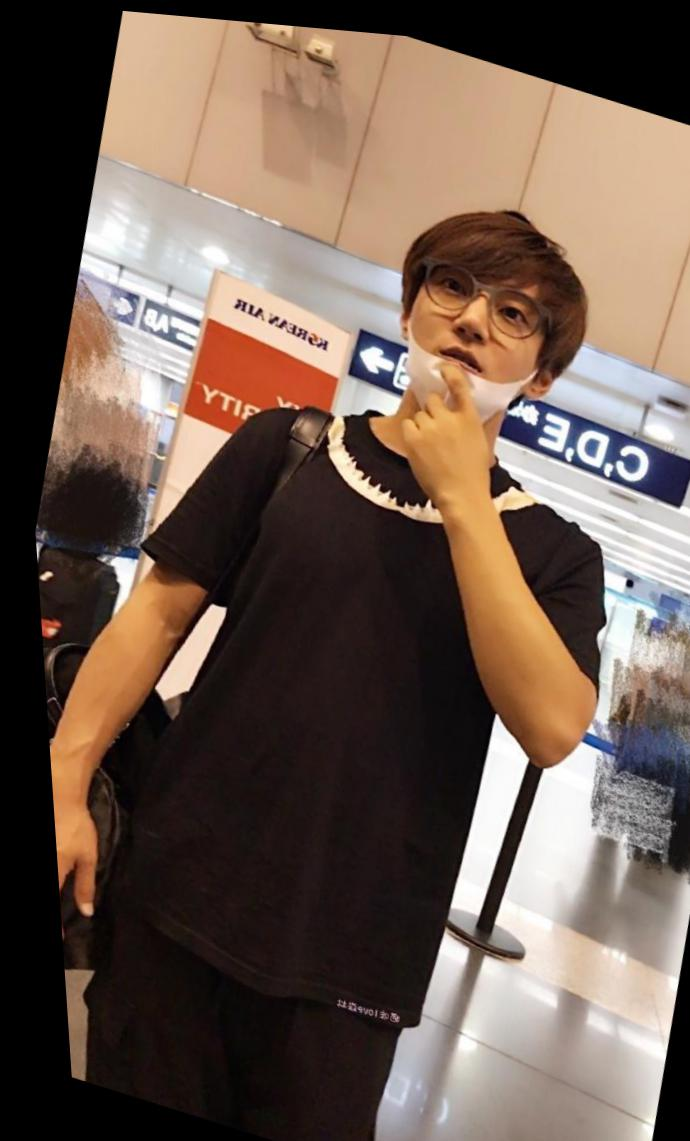WRONG: (382, 237, 564, 445)
